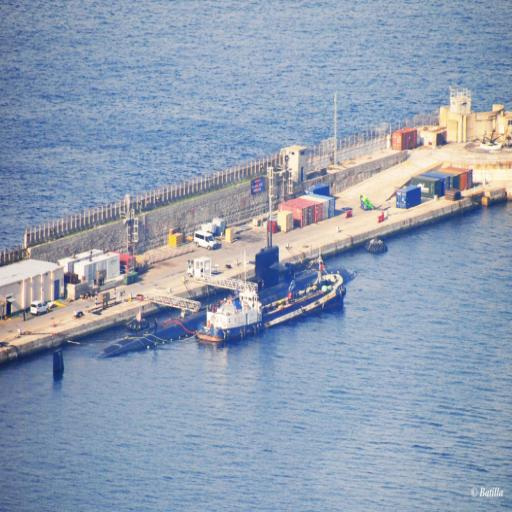submarine: (53, 247, 359, 375)
